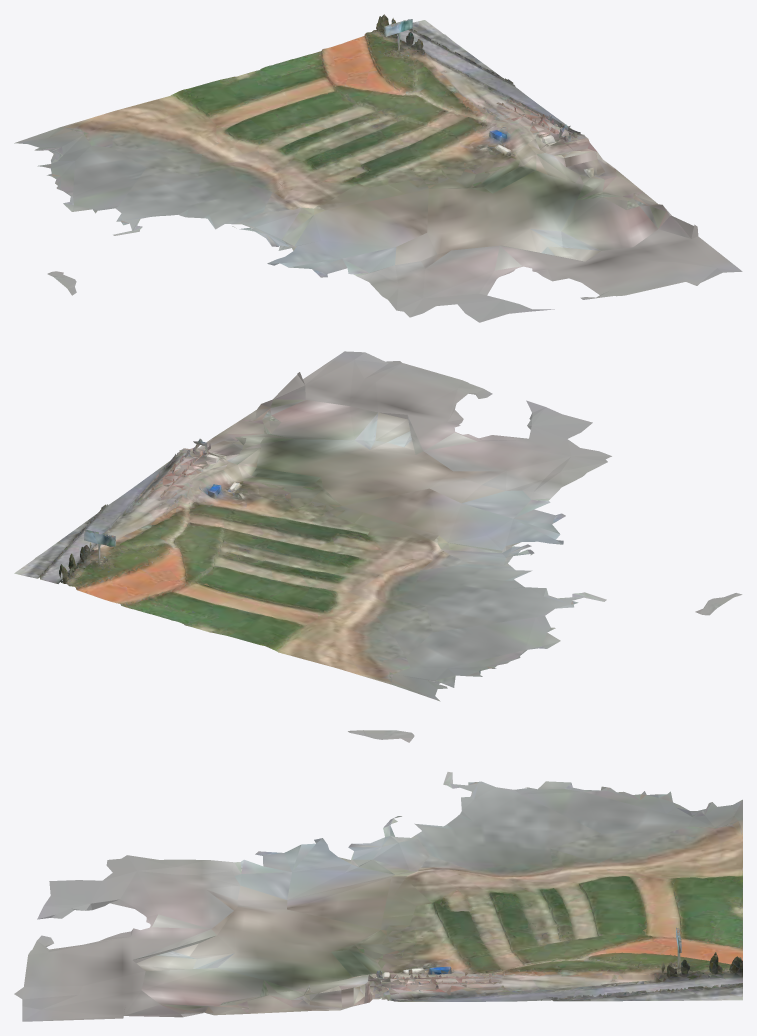
The model's file is BlockYXYY.glb.
The picture shows the model from 3 angles, top to bottom: view 1: azimuth 30°, elevation 25°; view 2: azimuth 150°, elevation 25°; view 3: azimuth 270°, elevation 25°; orthographic projection. The views are drawn at different scales.
Parts seen in each view (by area): view 1: rtc; view 2: rtc; view 3: rtc.
Part boxes in pixels (left/top/right/bottom): rtc: left=14, top=14, right=742, bottom=322; rtc: left=14, top=351, right=742, bottom=701; rtc: left=14, top=730, right=742, bottom=1021.
Size of the model in its own units: 336 by 39.84 by 355.
3 materials, 3 textured.
